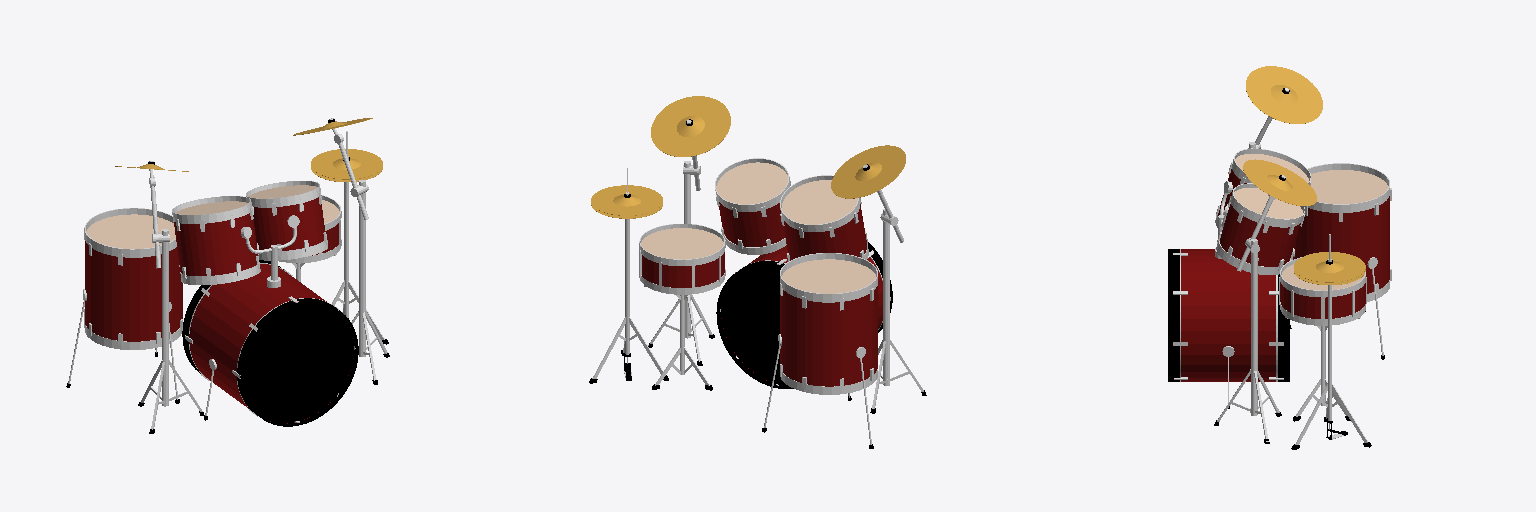
The model's file is batterie.obj.
3 views of the same model, side by side, from view 1: azimuth 30°, elevation 25°; view 2: azimuth 150°, elevation 25°; view 3: azimuth 270°, elevation 25° (orthographic).
Visible parts, largest first — view 1: Grosse_caisse_devant, Tom_Tom_basse, Grosse_caisse, Tom_Tom_2, Tom_Tom_1, Peau_haut_2, Contour_devant, Cymbale_pedale, Contour_haut_2, Contour_haut_1, Pied_centre_1, Pied_centre (+7 smaller); view 2: Tom_Tom_basse, Grosse_caisse_derriere, Cymbale, Peau_haut_2, Cymbale_6, Peau_haut, Peau_haut_1, Tom_Tom_2, Peau_haut_3, Tom_Tom_1, Caisse_claire_bois, Contour_haut_2 (+11 smaller); view 3: Grosse_caisse, Tom_Tom_basse, Cymbale_6, Tom_Tom_1, Peau_haut_2, Cymbale, Caisse_claire_bois, Contour_devant, Cymbale_pedale, Contour_haut_2, Peau_haut, Pied_centre (+8 smaller).
Part boxes in pixels (bbox=[...]): Grosse_caisse_devant: bbox=[244, 303, 353, 423]; Tom_Tom_basse: bbox=[85, 241, 182, 341]; Grosse_caisse: bbox=[189, 264, 353, 423]; Tom_Tom_2: bbox=[174, 213, 257, 275]; Tom_Tom_1: bbox=[253, 197, 324, 250]; Peau_haut_2: bbox=[86, 214, 175, 248]; Contour_devant: bbox=[237, 298, 358, 426]; Cymbale_pedale: bbox=[311, 149, 382, 179]; Contour_haut_2: bbox=[84, 208, 176, 257]; Contour_haut_1: bbox=[172, 196, 251, 223]; Pied_centre_1: bbox=[162, 229, 168, 406]; Pied_centre: bbox=[359, 180, 365, 356]; Tom_Tom_basse: bbox=[780, 286, 877, 386]; Grosse_caisse_derriere: bbox=[721, 266, 787, 385]; Cymbale: bbox=[651, 96, 730, 156]; Peau_haut_2: bbox=[782, 259, 875, 293]; Cymbale_6: bbox=[831, 145, 905, 198]; Peau_haut: bbox=[716, 162, 787, 204]; Peau_haut_1: bbox=[782, 180, 857, 224]; Tom_Tom_2: bbox=[784, 204, 866, 260]; Peau_haut_3: bbox=[641, 228, 723, 259]; Tom_Tom_1: bbox=[719, 202, 784, 246]; Caisse_claire_bois: bbox=[642, 252, 724, 287]; Contour_haut_2: bbox=[780, 253, 877, 302]; Grosse_caisse: bbox=[1181, 249, 1275, 381]; Tom_Tom_basse: bbox=[1293, 196, 1389, 293]; Cymbale_6: bbox=[1246, 66, 1322, 123]; Tom_Tom_1: bbox=[1220, 204, 1300, 266]; Peau_haut_2: bbox=[1311, 170, 1388, 203]; Cymbale: bbox=[1243, 159, 1316, 205]; Caisse_claire_bois: bbox=[1280, 282, 1365, 318]; Contour_devant: bbox=[1168, 249, 1179, 381]; Cymbale_pedale: bbox=[1294, 252, 1365, 282]; Contour_haut_2: bbox=[1308, 163, 1389, 212]; Peau_haut: bbox=[1234, 188, 1302, 218]; Pied_centre: bbox=[1251, 239, 1257, 415].
Size of the model in its own units: 141 by 116 by 92.84.